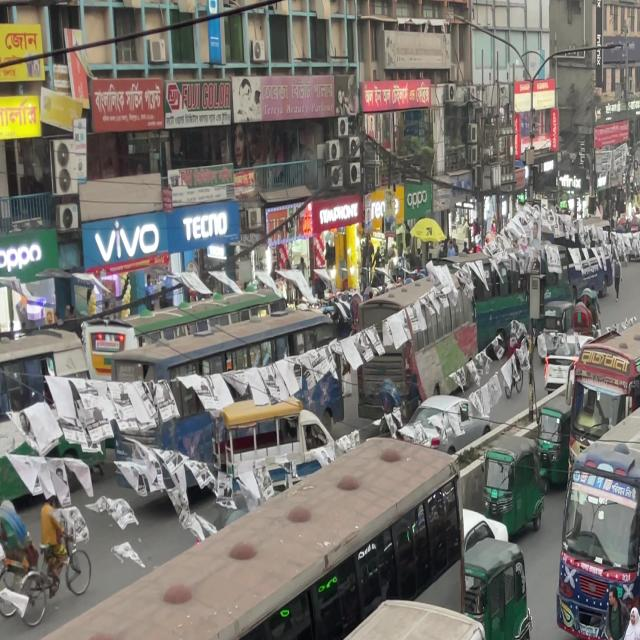bus: (0, 438, 481, 640), (98, 287, 360, 427), (11, 582, 502, 640), (558, 331, 640, 640), (218, 399, 338, 505), (565, 298, 640, 458), (466, 515, 534, 640)
motorbike: (1, 544, 60, 626)
